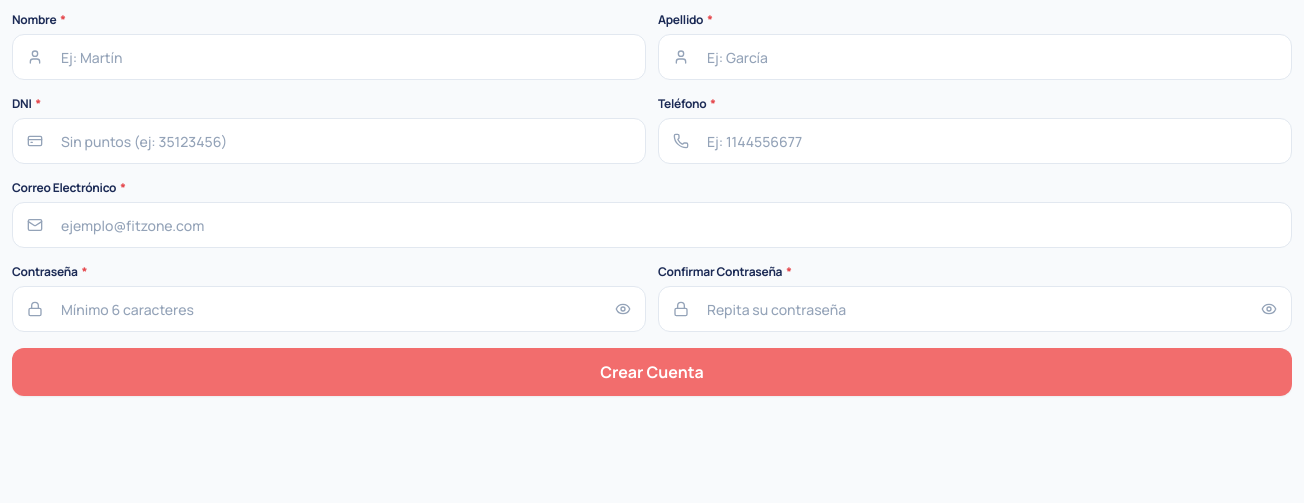
SCRUM-89: RegistroForm Component › valida que las contraseñas coincidan
Type "password123" into the password field labelled "Contraseña*".
click(329, 309); type("password123")  # box [47,287,611,331]
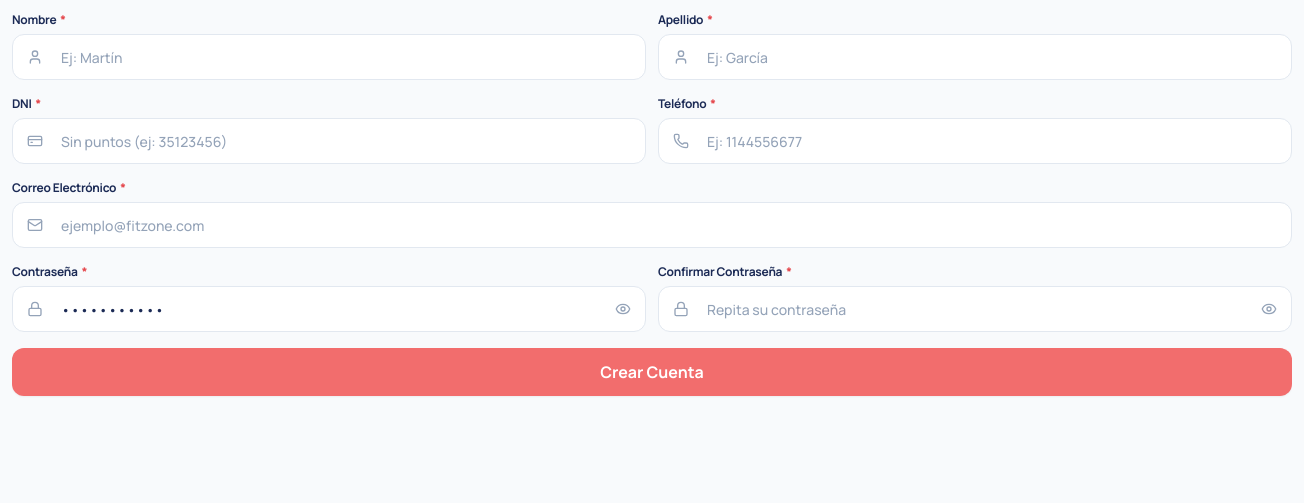
Type "otraClave" into the password field labelled "Confirmar Contraseña*".
click(975, 309); type("otraClave")  # box [693,287,1257,331]
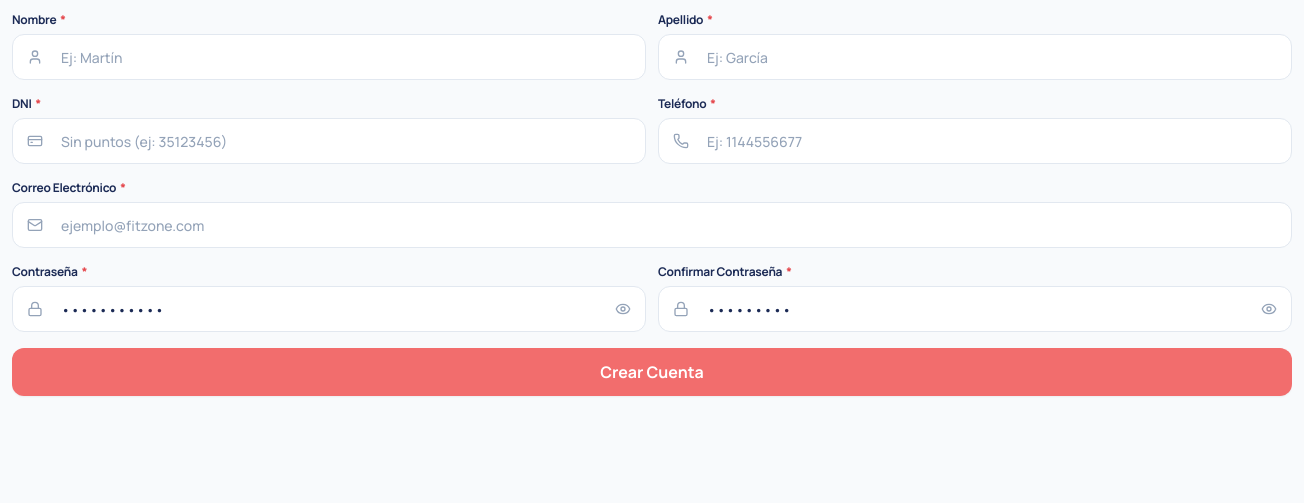
Click the button "Crear Cuenta".
click(652, 372)  # box [12,348,1292,396]
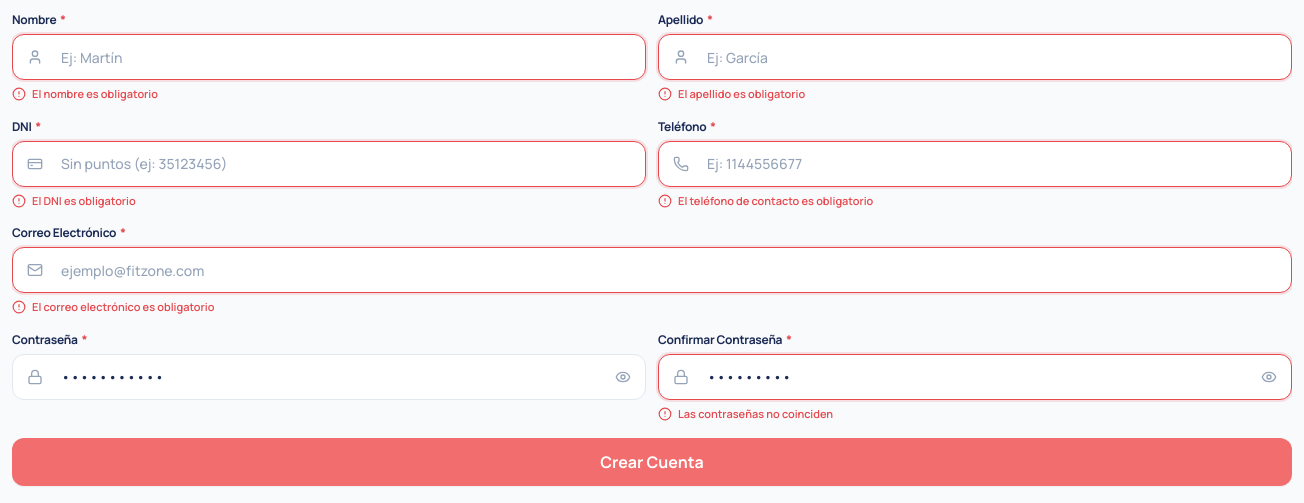
Result: the text "Las contraseñas no coinciden" is shown at [678,406,833,422]
